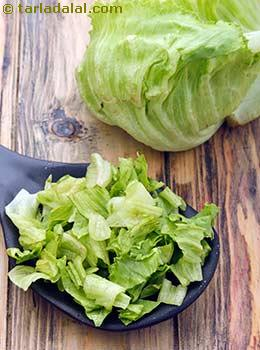chopped lettuce: (17, 172, 200, 312), (89, 9, 246, 138)
